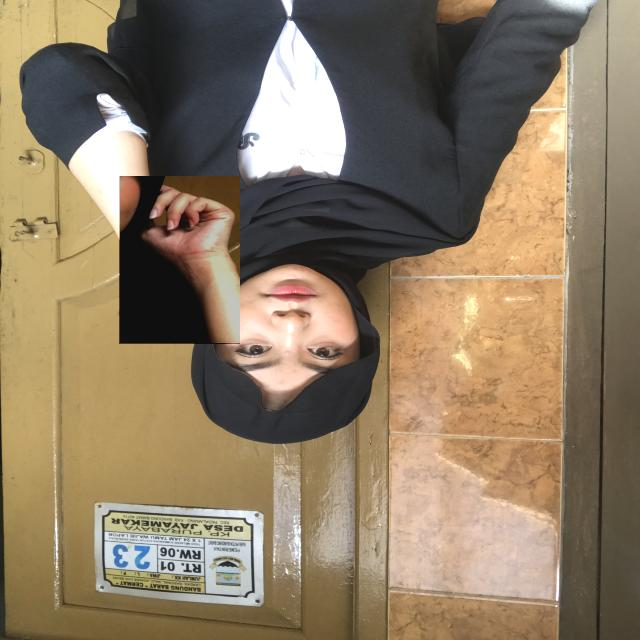ibu: (119, 175, 240, 344)
